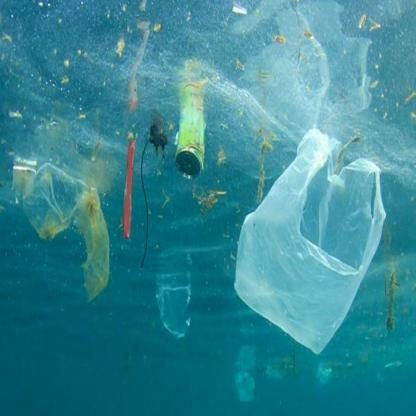Rác: (237, 119, 387, 356), (22, 155, 120, 326), (152, 280, 203, 354), (173, 80, 208, 184), (232, 372, 261, 406)
